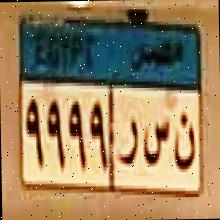9: (64, 94, 86, 172), (44, 95, 65, 175), (24, 97, 46, 173), (88, 93, 108, 175)
noon: (172, 105, 196, 176)
raa: (115, 112, 141, 174)
seen: (142, 116, 170, 172)
